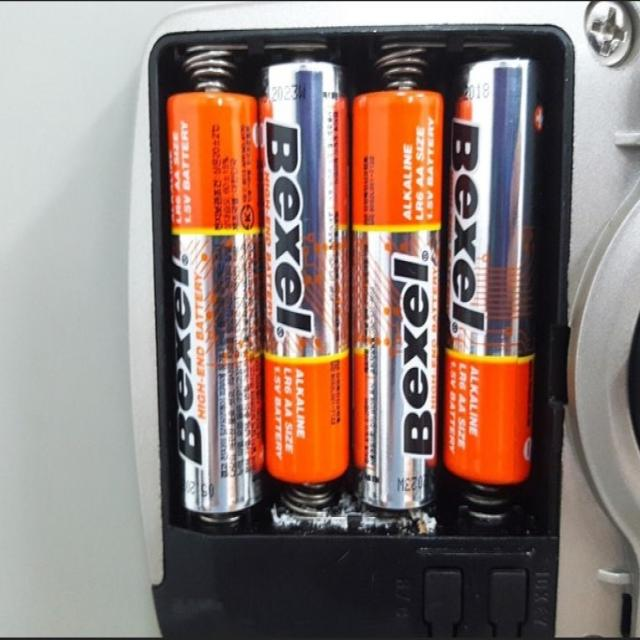battery: (258, 56, 354, 504), (449, 58, 546, 500), (350, 77, 447, 511), (162, 81, 258, 515)
